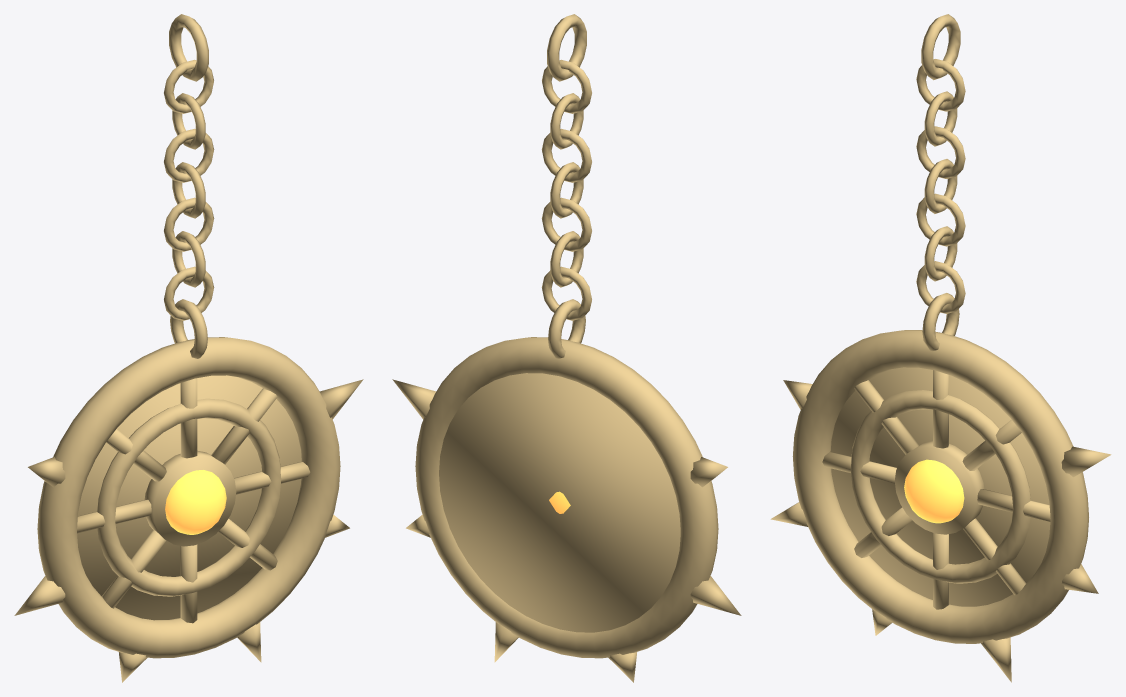
File: talisman.glb
3 views of the same model, side by side, from view 1: azimuth 30°, elevation 25°; view 2: azimuth 150°, elevation 25°; view 3: azimuth 330°, elevation 25° (orthographic). The views are drawn at different scales.
Visible parts, largest first — view 1: talisman; view 2: talisman; view 3: talisman.
Part boxes in pixels (bbox=[...]): talisman: bbox=[14, 14, 363, 682]; talisman: bbox=[392, 14, 741, 682]; talisman: bbox=[770, 14, 1111, 682].
Bounding box in the file's own units: 0.122 × 0.2215 × 0.0211.
